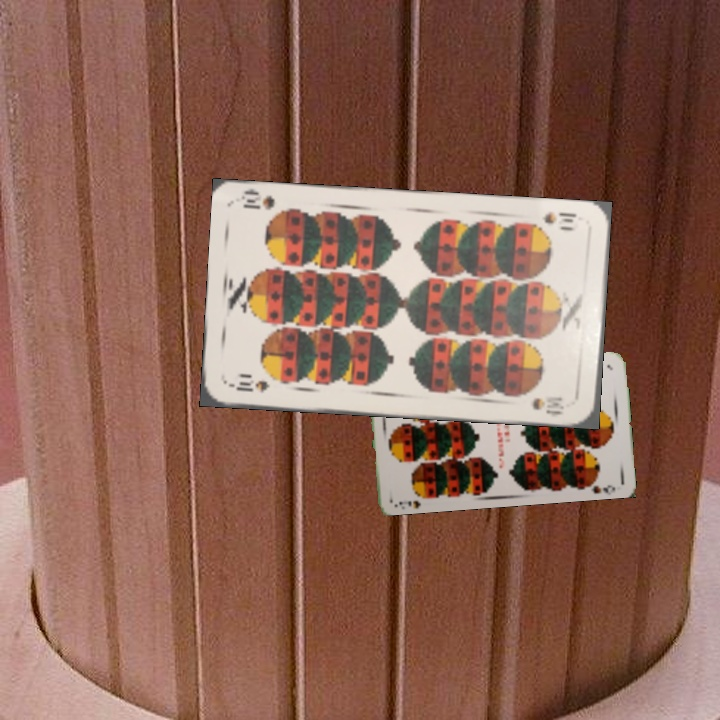S10: (225, 373, 272, 395), (539, 208, 579, 233)
S9: (395, 489, 432, 509)
